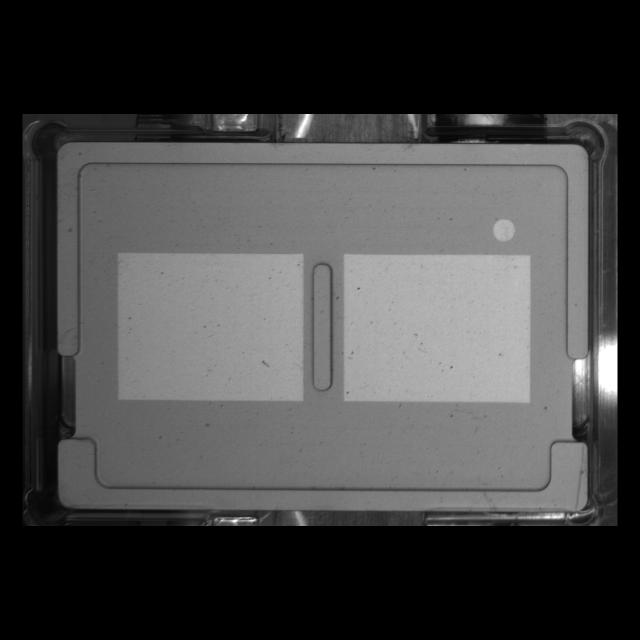door: (47, 423, 598, 519)
point: (484, 212, 524, 248)
